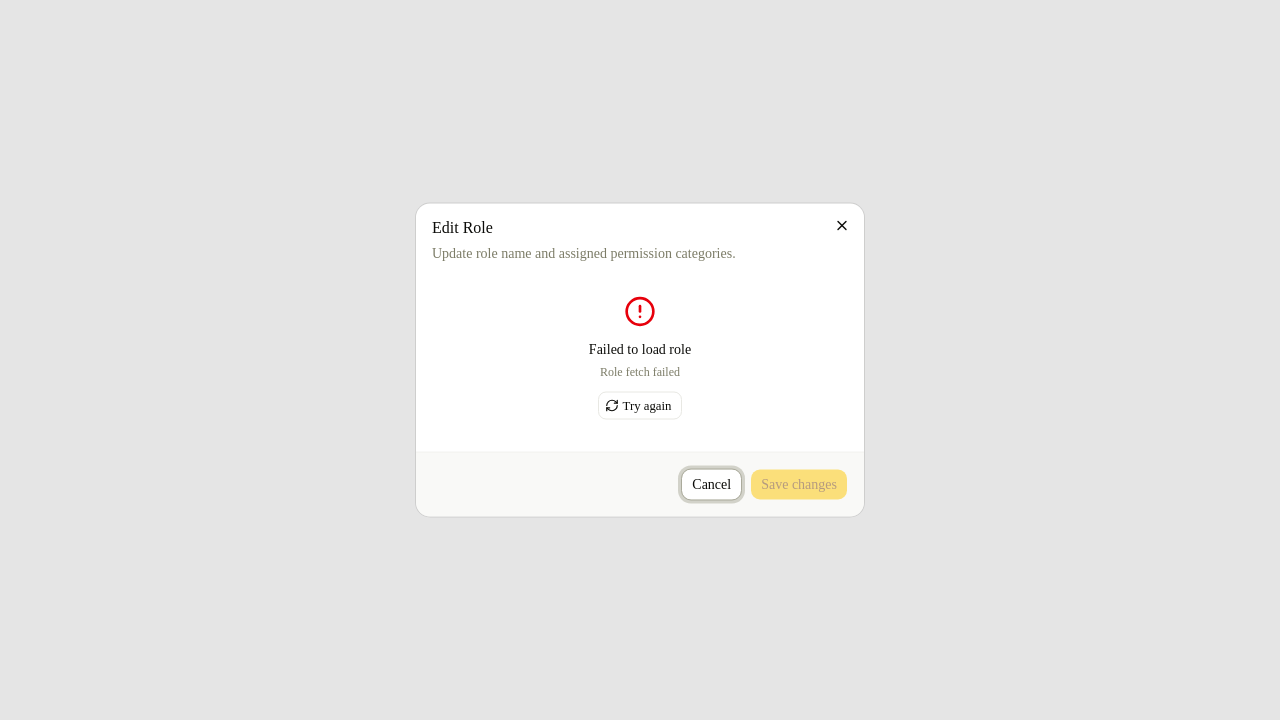
Test: EditRoleDialog › shows error state with retry when loading role fails
The width and height of the screenshot is (1280, 720).
Expected: the text "Failed to load role" is shown, left=589, top=340, right=691, bottom=360
Expected: the text "Role fetch failed" is shown, left=600, top=364, right=680, bottom=378
Click the button "Try again". click: (640, 406)
box: left=598, top=392, right=682, bottom=420
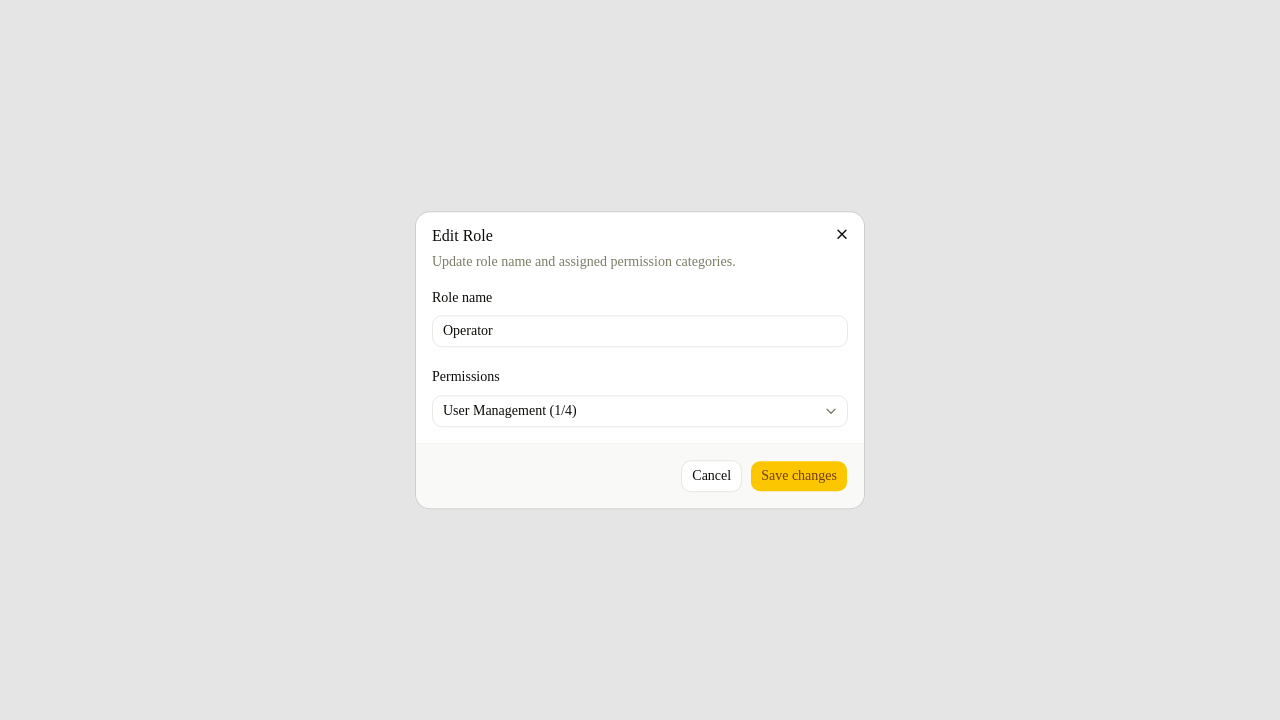
Result: the field labelled "Role name" holds "Operator" at left=432, top=316, right=848, bottom=348
Result: the button "Save changes" is enabled at left=750, top=460, right=848, bottom=492
